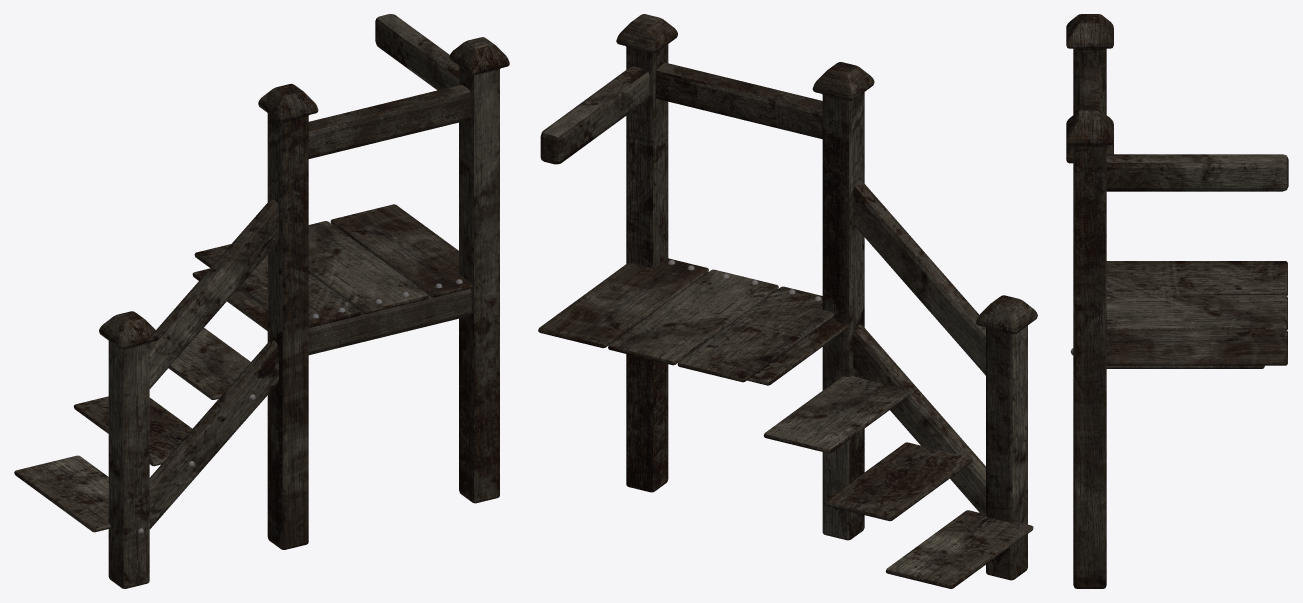
File: WoodCornerStairs.fbx
3 views of the same model, side by side, from view 1: azimuth 30°, elevation 25°; view 2: azimuth 150°, elevation 25°; view 3: azimuth 270°, elevation 25° (orthographic). The views are drawn at different scales.
Parts seen in each view (by area): view 1: Wooden Stairs; view 2: Wooden Stairs; view 3: Wooden Stairs.
Boxes of the visible parts, x1,y1,x2,y2 form: Wooden Stairs: [14, 14, 509, 588]; Wooden Stairs: [538, 14, 1037, 588]; Wooden Stairs: [1066, 14, 1288, 588].
Bounding box in the file's own units: 241 × 260 × 112.
